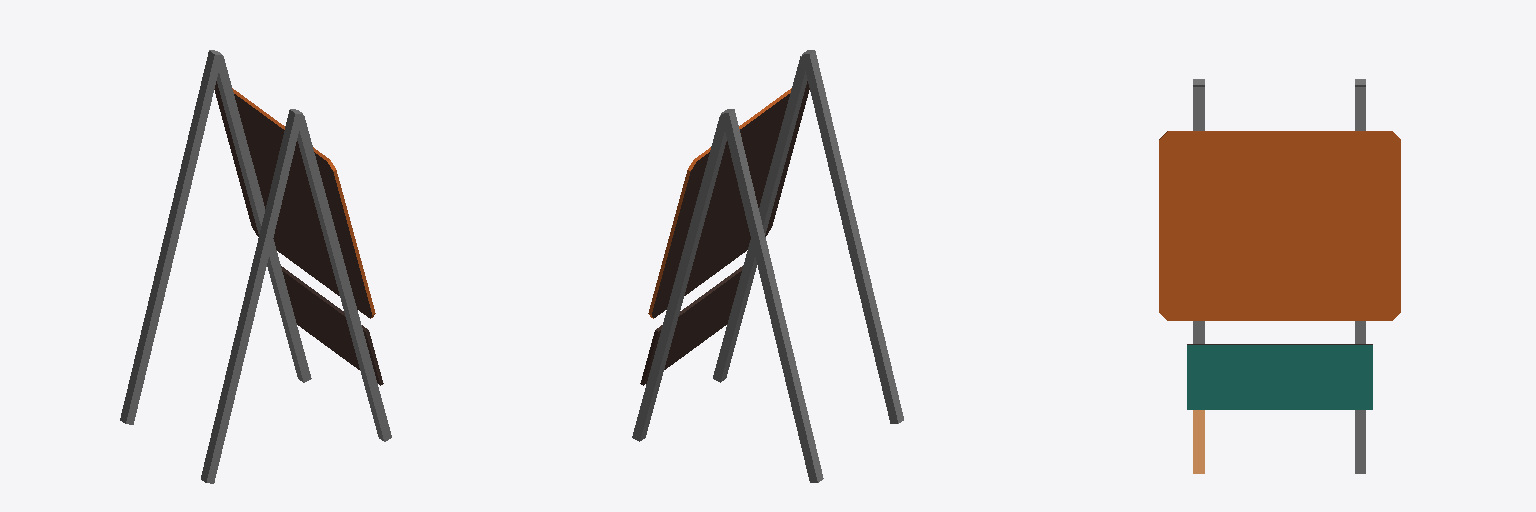
The model's file is yum01.obj.
3 renders of one model, left to right at view 1: azimuth 30°, elevation 25°; view 2: azimuth 150°, elevation 25°; view 3: azimuth 270°, elevation 25°, orthographic.
Parts seen in each view (by area): view 1: Mesh1 yum_sign1 Model; view 2: Mesh1 yum_sign1 Model; view 3: Mesh1 yum_sign1 Model.
Part boxes in pixels (left/top/right/bottom): Mesh1 yum_sign1 Model: left=120, top=50, right=391, bottom=483; Mesh1 yum_sign1 Model: left=632, top=50, right=903, bottom=482; Mesh1 yum_sign1 Model: left=1159, top=79, right=1400, bottom=473.
Bounding box in the file's own units: 38.16 × 68.63 × 42.88.